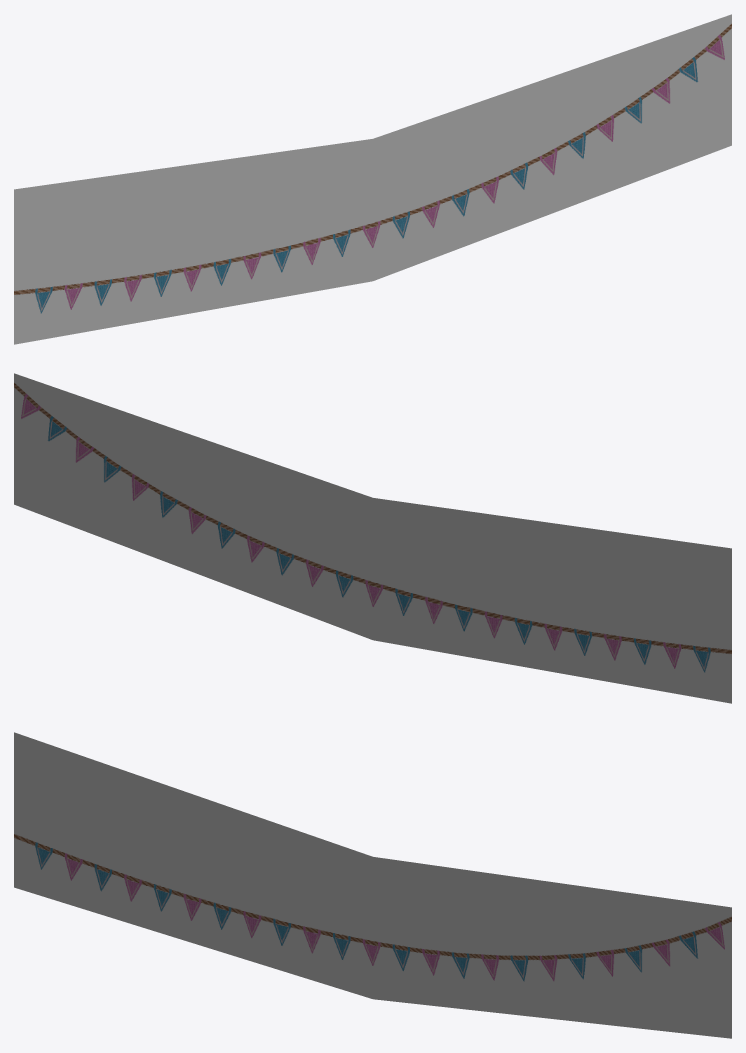
The model's file is SM_garland002.fbx.
3 renders of one model, top to bottom at view 1: azimuth 30°, elevation 25°; view 2: azimuth 150°, elevation 25°; view 3: azimuth 330°, elevation 25°, orthographic.
Visible parts, largest first — view 1: SM_garland002; view 2: SM_garland002; view 3: SM_garland002.
Part boxes in pixels (<box>): SM_garland002: <box>14,14,731,344</box>; SM_garland002: <box>14,373,731,703</box>; SM_garland002: <box>14,732,731,1038</box>.
Size of the model in its own units: 793 by 190 by 1.43e-05.
1 material, 1 textured.
